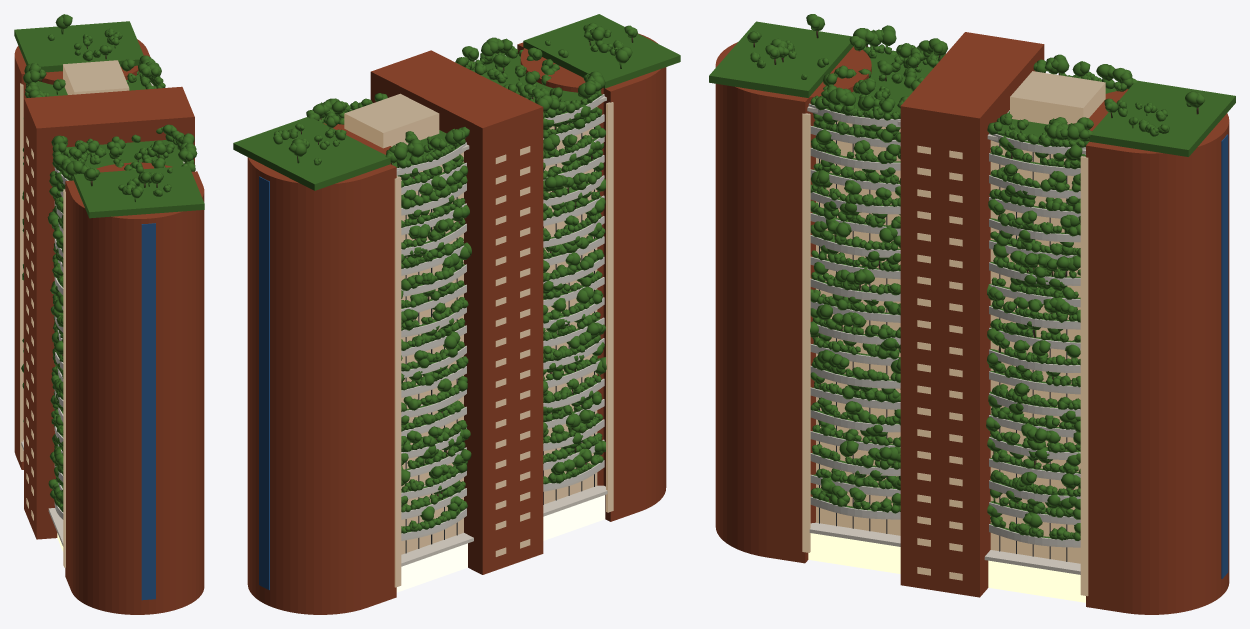
Rendered from te_tower.glb.
3 renders of one model, left to right at view 1: azimuth 30°, elevation 25°; view 2: azimuth 150°, elevation 25°; view 3: azimuth 270°, elevation 25°, orthographic. The views are drawn at different scales.
Visible parts, largest first — view 1: hero_TE_brick, hero_TE_planting, planting_3, hero_TE_blue_glass, hero_TE_glass, planting_2, planting_0, planting_1, hero_TE_upstand, hero_TE_slab; view 2: hero_TE_brick, hero_TE_glass, planting_3, hero_TE_planting, hero_TE_upstand, planting_1, planting_2, planting_0, hero_TE_slab, hero_TE_blue_glass, hero_TE_retail, hero_TE_mullion; view 3: hero_TE_brick, hero_TE_glass, planting_3, hero_TE_upstand, hero_TE_planting, planting_1, planting_2, planting_0, hero_TE_slab, hero_TE_retail, hero_TE_blue_glass, hero_TE_mullion.
Part boxes in pixels (x1,y1,x2,y2): hero_TE_brick: (14, 39, 204, 614); hero_TE_planting: (14, 21, 204, 488); planting_3: (21, 14, 197, 504); hero_TE_blue_glass: (141, 223, 155, 600); hero_TE_glass: (20, 60, 129, 567); planting_2: (22, 31, 193, 511); planting_0: (25, 28, 179, 505); planting_1: (22, 43, 195, 498); hero_TE_upstand: (54, 167, 68, 517); hero_TE_slab: (21, 82, 184, 546); hero_TE_brick: (247, 33, 666, 614); hero_TE_glass: (344, 93, 613, 587); planting_3: (288, 22, 637, 521); hero_TE_planting: (233, 14, 680, 533); hero_TE_upstand: (350, 94, 604, 539); planting_1: (319, 40, 617, 532); planting_2: (274, 40, 605, 533); planting_0: (273, 29, 623, 512); hero_TE_slab: (396, 96, 607, 566); hero_TE_blue_glass: (259, 176, 269, 589); hero_TE_retail: (396, 495, 605, 592); hero_TE_mullion: (405, 123, 594, 553); hero_TE_brick: (715, 32, 1229, 614); hero_TE_glass: (802, 71, 1105, 596); planting_3: (747, 14, 1204, 533); hero_TE_upstand: (808, 51, 1114, 545); hero_TE_planting: (709, 21, 1235, 539); planting_1: (786, 40, 1157, 540); planting_2: (756, 44, 1191, 540); planting_0: (750, 43, 1169, 539); hero_TE_slab: (807, 106, 1085, 574); hero_TE_retail: (808, 533, 1085, 602); hero_TE_blue_glass: (1221, 134, 1228, 578); hero_TE_mullion: (819, 122, 1067, 561).
Bounding box in the file's own units: 46.81 × 83.5 × 81.02.
